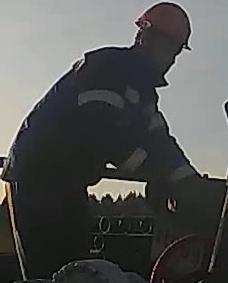helmet: (134, 0, 192, 53)
vest: (14, 49, 169, 204)
